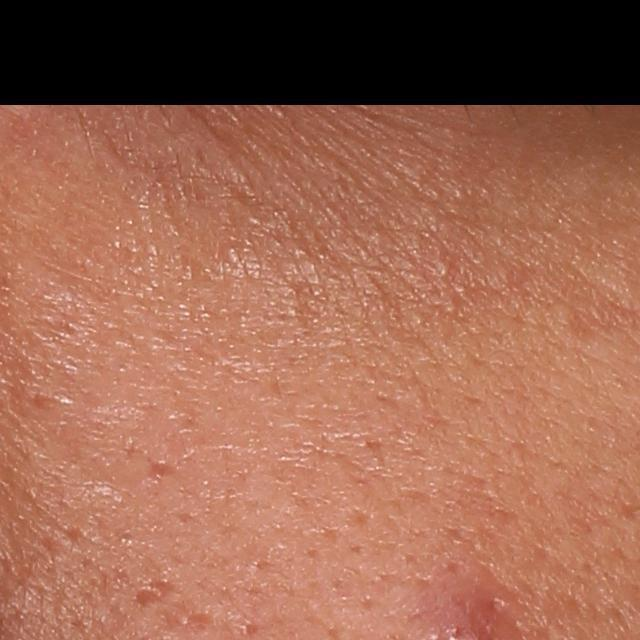atrophic_scar: (131, 577, 171, 609), (149, 459, 182, 481)
comedo: (431, 259, 452, 281)
